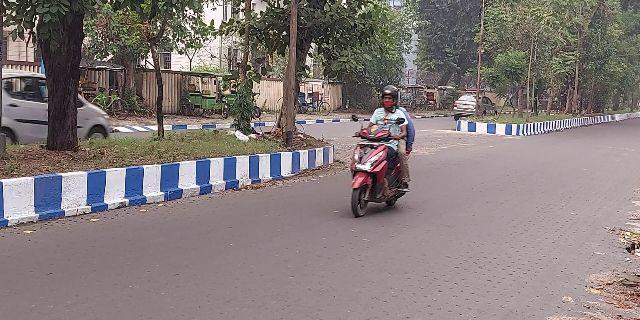Motorbike: (343, 81, 417, 224)
